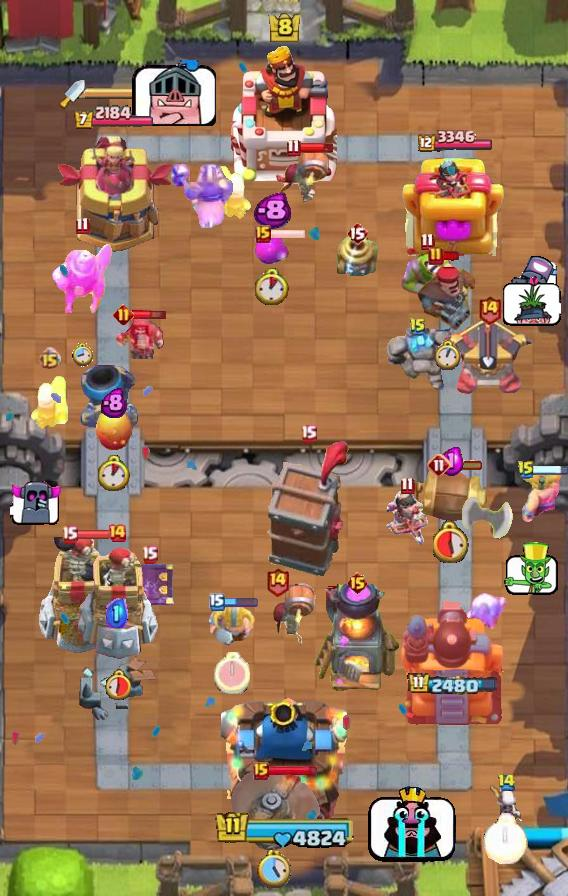axe: (461, 497, 513, 557)
bar: (267, 764, 318, 777), (132, 308, 167, 321), (269, 228, 306, 240), (223, 596, 259, 608), (448, 459, 484, 471), (298, 142, 334, 154), (533, 464, 568, 476), (75, 529, 111, 540), (442, 250, 461, 262)
bar-level: (265, 566, 290, 597), (477, 294, 502, 325), (427, 453, 451, 477), (346, 571, 369, 595), (38, 347, 61, 370), (346, 221, 368, 245), (113, 304, 134, 325), (107, 523, 127, 543), (497, 773, 516, 792), (517, 460, 535, 480), (409, 317, 427, 337), (141, 545, 158, 564), (61, 525, 78, 544), (300, 424, 317, 443), (428, 246, 444, 266), (253, 762, 269, 780), (209, 593, 225, 611), (255, 225, 271, 243), (400, 476, 415, 495), (420, 232, 435, 251), (75, 216, 90, 235), (286, 138, 301, 157)
barbarian-barrel: (411, 469, 491, 523)
cannoneer-tower: (397, 595, 509, 731)
clock: (484, 813, 528, 864), (433, 520, 470, 563), (214, 652, 250, 694), (257, 850, 291, 888), (255, 268, 289, 305), (98, 455, 130, 491), (104, 669, 131, 700), (434, 340, 461, 371), (72, 343, 93, 367)
dagger-duchess-tower: (52, 132, 176, 256)
dagger-duchess-tower-bar: (85, 87, 155, 101)
elite-barbarian: (518, 466, 562, 522), (208, 603, 256, 646)
elixir: (253, 192, 291, 230), (101, 387, 127, 418), (439, 445, 464, 476), (106, 598, 128, 628)
elixir-golem-small: (254, 236, 290, 266)
emote: (366, 780, 458, 864), (130, 60, 216, 126), (502, 542, 560, 598), (501, 274, 561, 327), (10, 479, 63, 526), (506, 256, 557, 300)
firecracker: (28, 373, 70, 431), (212, 163, 254, 221)
goblin-brawler: (397, 244, 457, 300)
golemite: (382, 326, 454, 396)
hunter: (416, 258, 478, 330)
ice-spirit-evolution: (460, 591, 510, 629)
king-tower: (221, 690, 347, 826), (231, 43, 337, 181)
king-tower-bar: (211, 810, 357, 851)
miner: (50, 240, 114, 318)
mortar: (80, 364, 140, 428)
phoenix-egg: (94, 408, 134, 452)
princess: (383, 487, 431, 549)
queen-tower: (401, 156, 505, 256)
skeleton: (489, 784, 523, 826)
tower-bar: (407, 672, 499, 697), (73, 105, 155, 131), (415, 130, 492, 154)
wall-breaker: (274, 145, 330, 205), (270, 582, 318, 648)
wizard: (115, 315, 165, 359)
zappy: (334, 233, 380, 281)
